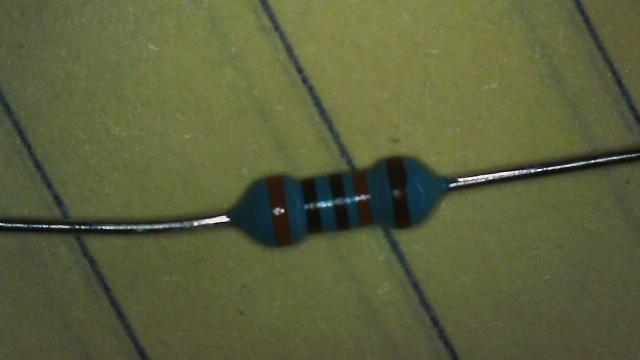black: (329, 174, 350, 230), (302, 178, 322, 232)
brown: (386, 156, 411, 228)
orange: (268, 176, 292, 246), (352, 170, 372, 225)
resistor: (225, 149, 457, 250)
